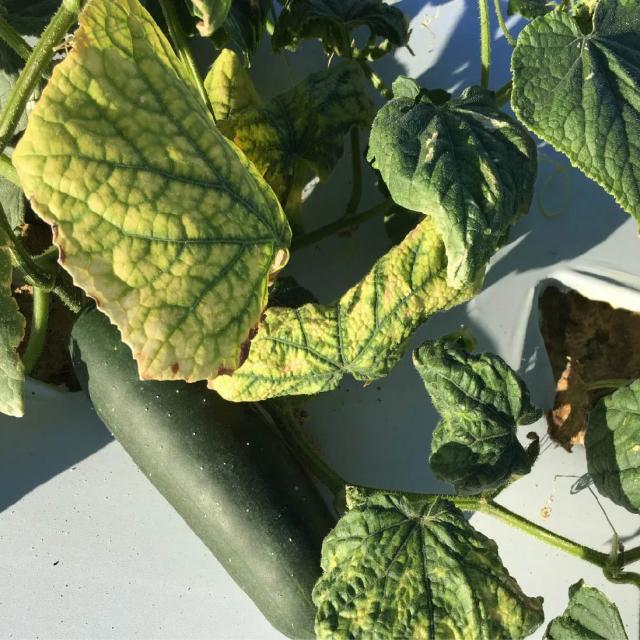Whitefly: (7, 0, 296, 387), (207, 211, 483, 402), (201, 49, 384, 239), (329, 530, 512, 640), (416, 339, 542, 470), (531, 281, 640, 431)
